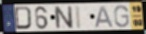6: (35, 5, 49, 30)
A: (94, 5, 115, 28)
D: (14, 6, 33, 31)
G: (113, 5, 130, 29)
I: (75, 5, 83, 30)
N: (53, 5, 75, 30)
